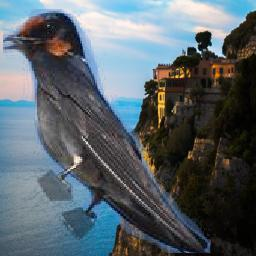Swallow: (3, 9, 211, 253)
